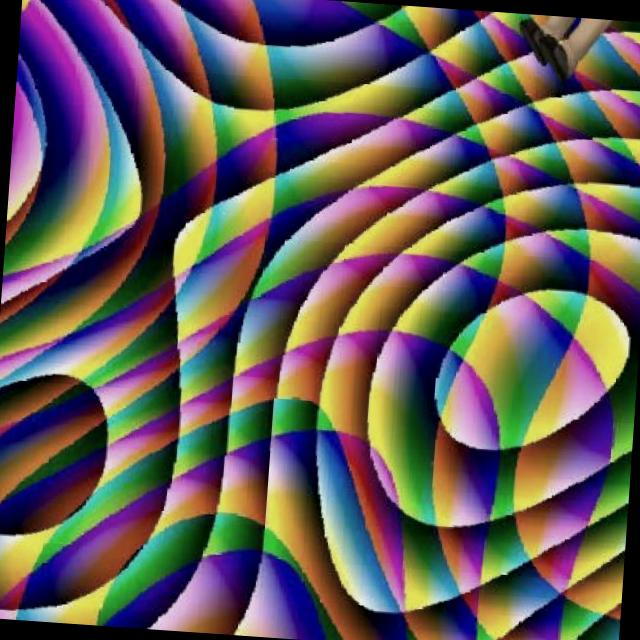Person: (508, 13, 623, 80)
